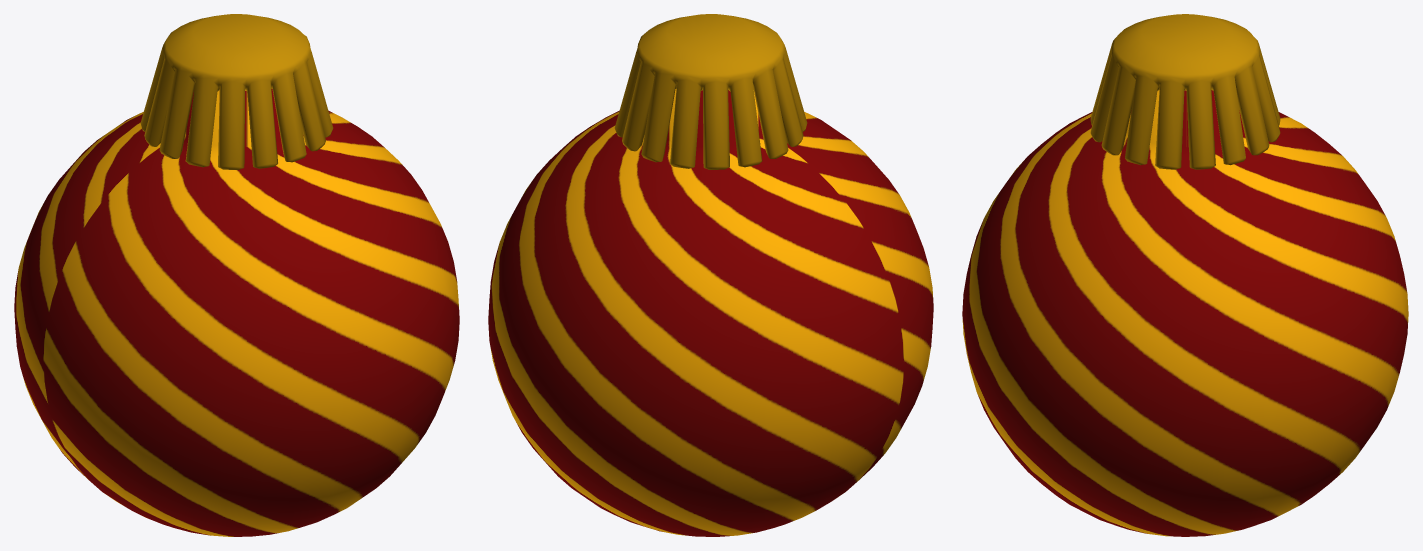
Rendered from New Year.fbx.
3 views of the same model, side by side, from view 1: azimuth 30°, elevation 25°; view 2: azimuth 150°, elevation 25°; view 3: azimuth 270°, elevation 25° (orthographic).
Parts seen in each view (by area): view 1: Basketball_Ball_Skin_New_Year_Toy; view 2: Basketball_Ball_Skin_New_Year_Toy; view 3: Basketball_Ball_Skin_New_Year_Toy.
Boxes of the visible parts, bbox=[...] form: Basketball_Ball_Skin_New_Year_Toy: bbox=[14, 14, 459, 536]; Basketball_Ball_Skin_New_Year_Toy: bbox=[488, 14, 933, 536]; Basketball_Ball_Skin_New_Year_Toy: bbox=[962, 14, 1408, 536].
Bounding box in the file's own units: 0.2402 × 0.2873 × 0.2402.
1 material, 1 textured.
